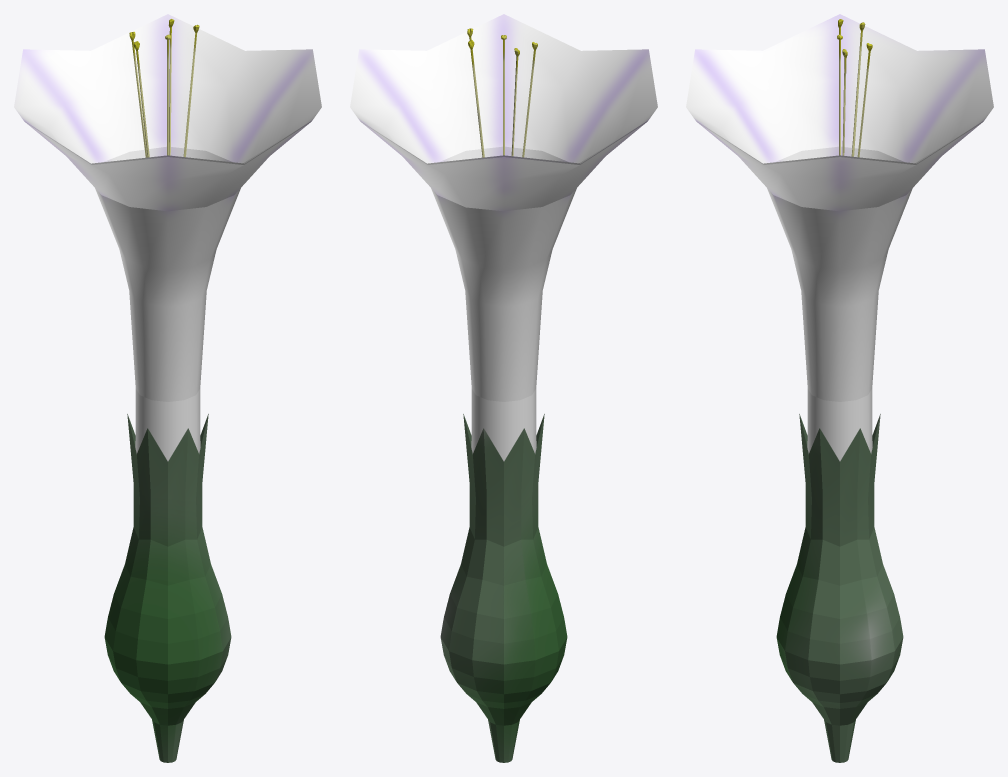
Rendered from datura.fbx.
The picture shows the model from 3 angles, left to right: view 1: azimuth 30°, elevation 25°; view 2: azimuth 150°, elevation 25°; view 3: azimuth 270°, elevation 25°; orthographic projection.
Parts seen in each view (by area): view 1: datura_flower:petals, datura_flower:leaf; view 2: datura_flower:petals, datura_flower:leaf; view 3: datura_flower:petals, datura_flower:leaf.
Boxes of the visible parts, x1,y1,x2,y2 form: datura_flower:petals: (14,14,321,461); datura_flower:leaf: (104,414,231,762); datura_flower:petals: (350,14,657,461); datura_flower:leaf: (440,414,567,762); datura_flower:petals: (686,14,993,461); datura_flower:leaf: (776,414,903,762).
Size of the model in its own units: 62.75 by 150 by 57.77.
Materials: 1 (1 with a texture image).
